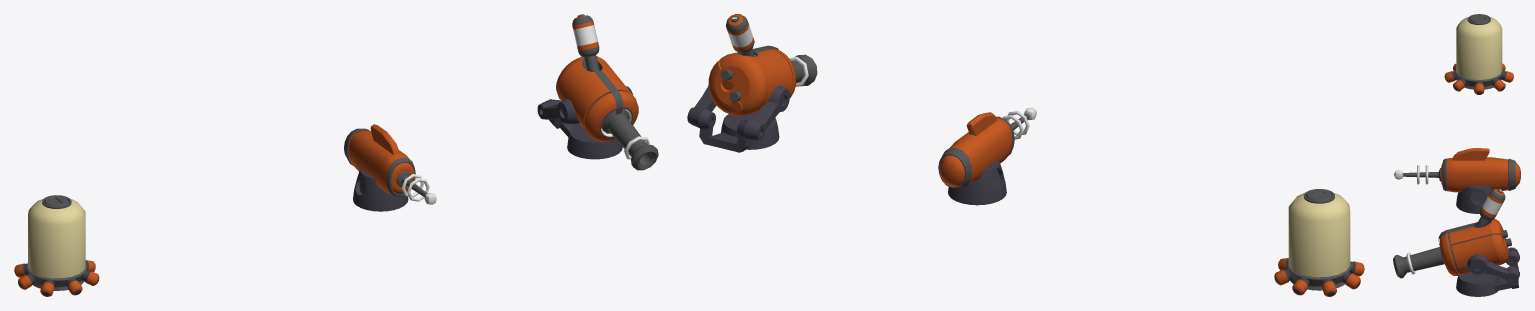
Rendered from base_upgrades.fbx.
The picture shows the model from 3 angles, left to right: view 1: azimuth 30°, elevation 25°; view 2: azimuth 150°, elevation 25°; view 3: azimuth 270°, elevation 25°; orthographic projection. The views are drawn at different scales.
Parts seen in each view (by area): view 1: Cylinder.019, Cylinder.015, Cylinder.007, Cylinder.006, Cylinder.018, Cylinder.025, Cylinder.012, Cylinder.020, Cylinder.009; view 2: Cylinder.019, Cylinder.015, Cylinder.007, Cylinder.020, Cylinder.006, Cylinder.012, Cylinder.023, Cylinder.025, Cylinder.018, Cylinder.009; view 3: Cylinder.019, Cylinder.007, Cylinder.015, Cylinder.018, Cylinder.020, Cylinder.006, Cylinder.012, Cylinder.025, Cylinder.023, Cylinder.009, Cylinder.016, Cylinder.026.
Part boxes in pixels (box(x1,y1,x2,y2)): Cylinder.019: box(556, 56, 658, 170); Cylinder.015: box(28, 198, 85, 278); Cylinder.007: box(344, 124, 436, 204); Cylinder.006: box(353, 168, 408, 211); Cylinder.018: box(567, 124, 622, 159); Cylinder.025: box(572, 14, 599, 72); Cylinder.012: box(14, 260, 99, 296); Cylinder.020: box(537, 86, 632, 124); Cylinder.009: box(26, 264, 87, 290); Cylinder.019: box(708, 45, 817, 116); Cylinder.015: box(1288, 192, 1350, 277); Cylinder.007: box(938, 107, 1036, 188); Cylinder.020: box(687, 85, 789, 140); Cylinder.006: box(948, 159, 1006, 205); Cylinder.012: box(1274, 258, 1364, 296); Cylinder.023: box(698, 108, 751, 152); Cylinder.025: box(726, 14, 754, 56); Cylinder.018: box(721, 113, 779, 149); Cylinder.009: box(1287, 262, 1351, 290); Cylinder.019: box(1393, 218, 1511, 278); Cylinder.007: box(1394, 148, 1520, 192); Cylinder.015: box(1456, 17, 1502, 79); Cylinder.018: box(1456, 272, 1498, 296); Cylinder.020: box(1467, 247, 1519, 283); Cylinder.006: box(1456, 186, 1491, 213); Cylinder.012: box(1444, 63, 1513, 94); Cylinder.025: box(1475, 189, 1505, 227); Cylinder.023: box(1494, 250, 1519, 291); Cylinder.009: box(1455, 68, 1503, 89); Cylinder.016: box(1467, 14, 1490, 24); Cylinder.026: box(1447, 232, 1498, 273).
Size of the model in its own units: 2028 by 404 by 466.
